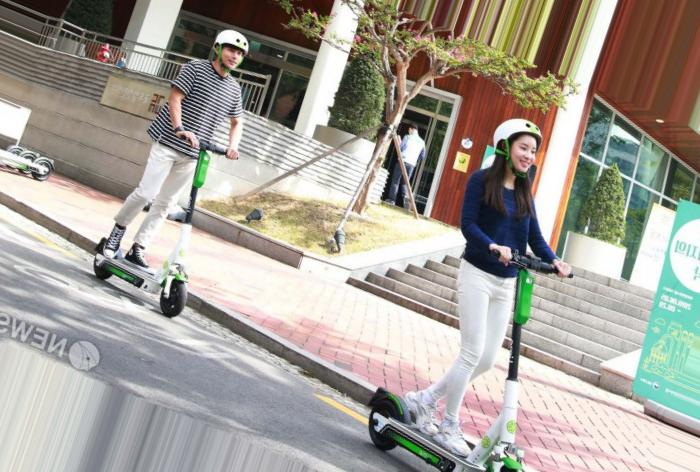scooter: (366, 243, 576, 472), (93, 130, 239, 321)
with helmet: (493, 113, 541, 175), (212, 27, 249, 74)
